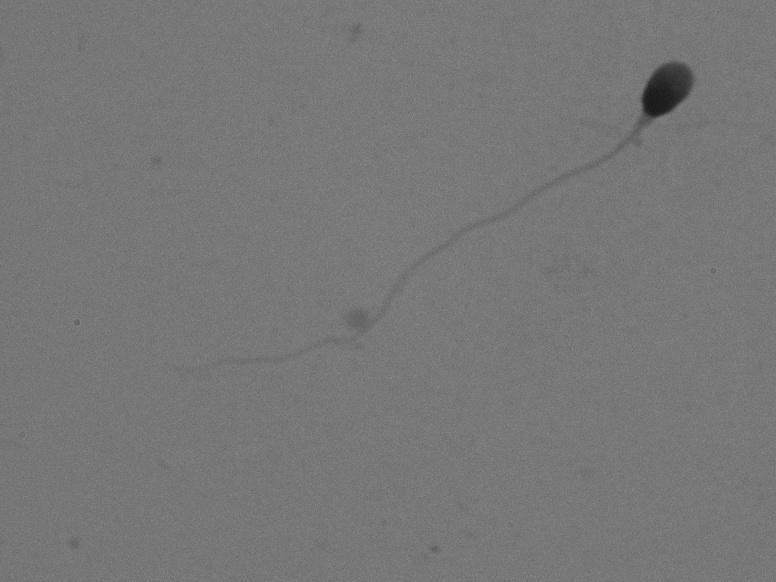Normal: (158, 50, 710, 403)
